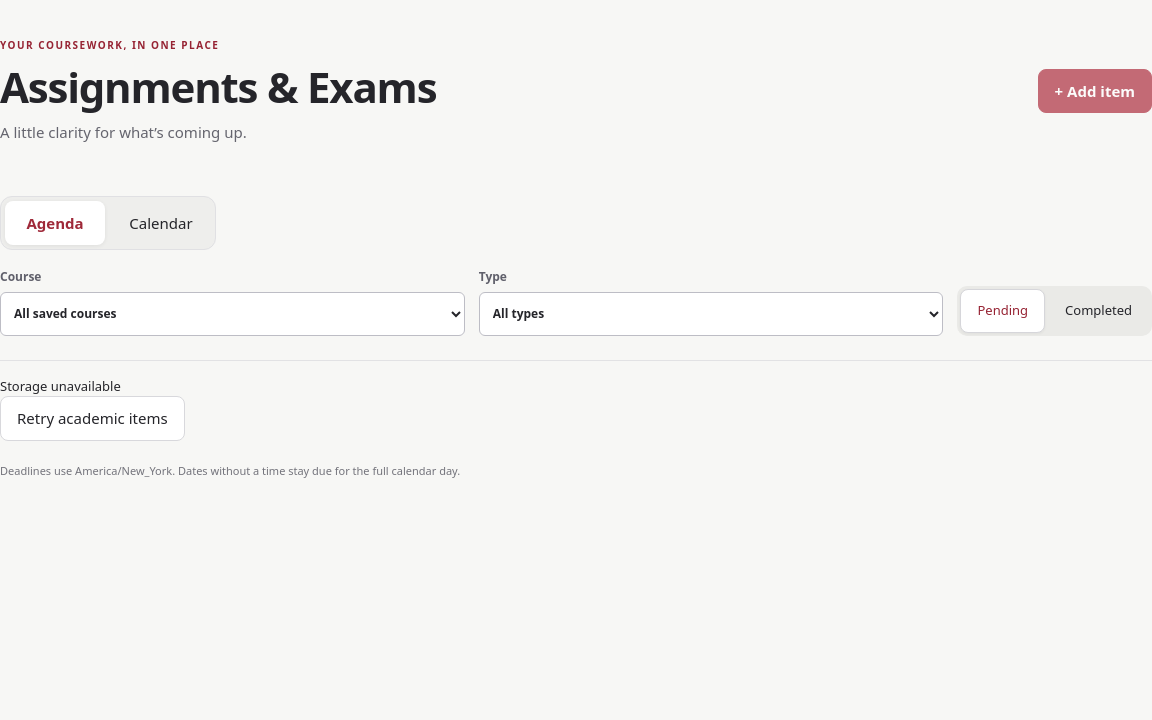
Test case: calendar load failure remains retryable and a successful empty calendar is navigable
Expected: the message "Storage unavailable" is shown, [0,377,121,395]
Click the tab "Calendar": x=161, y=223 [111,201,211,245]
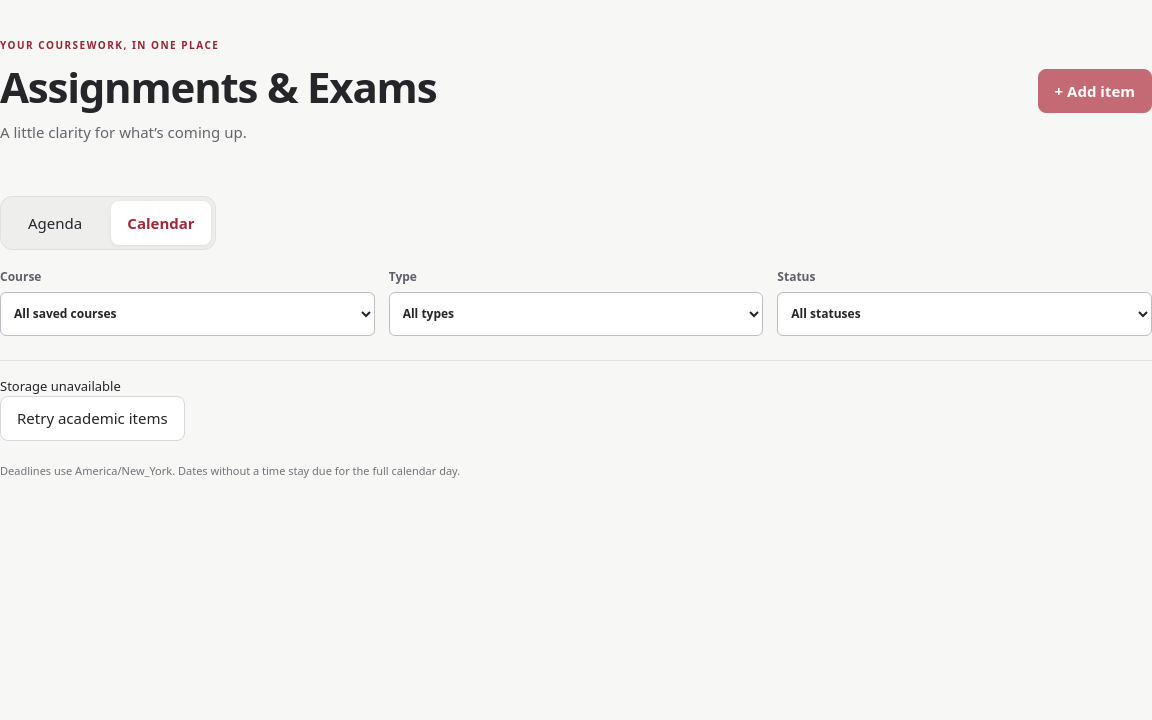
Click the button "Retry academic items": x=92, y=419 [0,396,185,441]
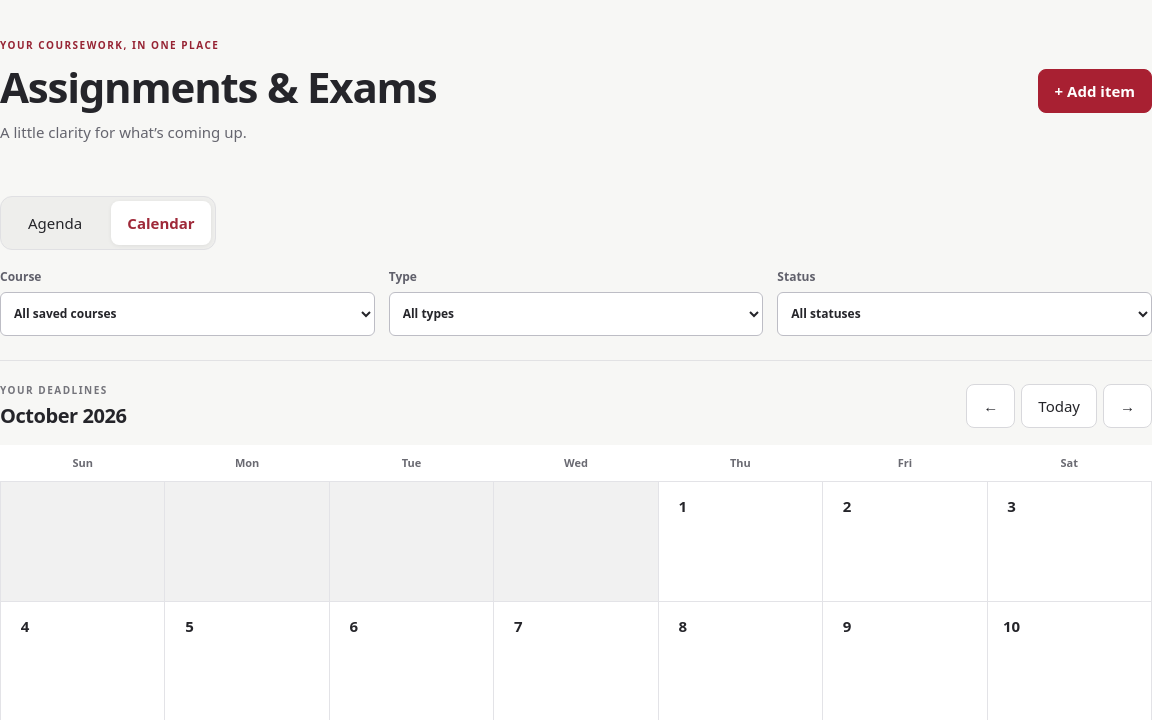
Click the button named "Next month": x=1128, y=406 [1103,384,1151,428]
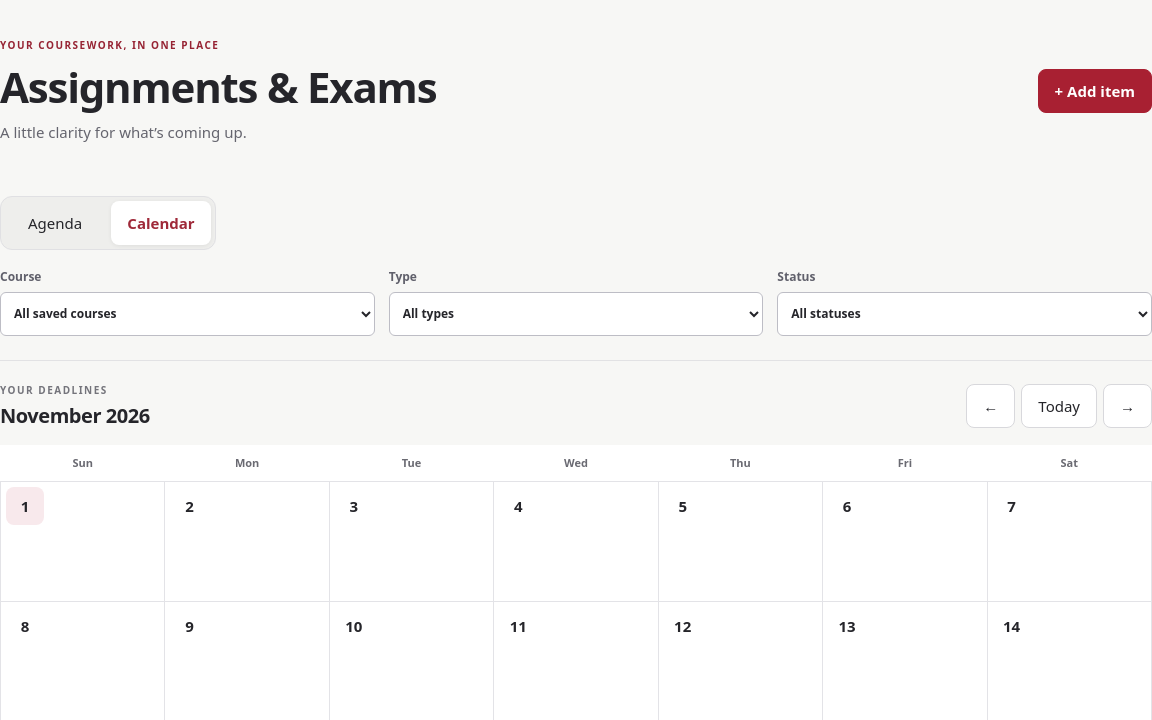
Expected: the heading "November 2026" is shown, [0,403,150,429]
